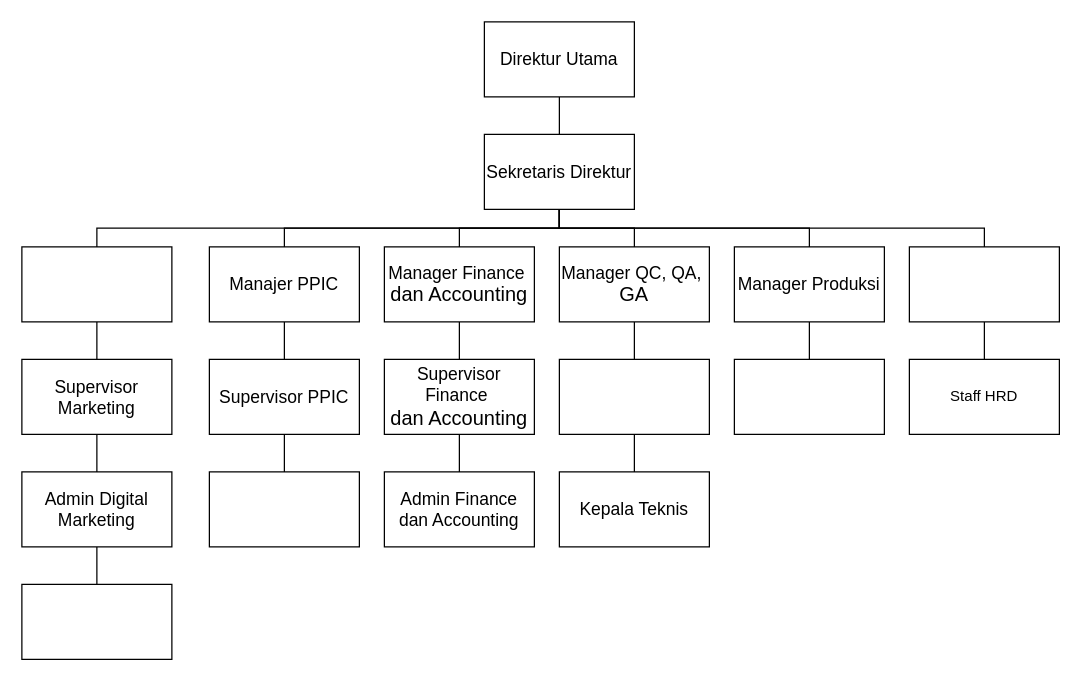
Some shapes in this 1081 by 681 pixel diagram are drawn without their labels. The centre of each missing label's shape, as x and y in pixels:
Admin Penjualan: point (96, 621)
Admin PPIC: point (283, 509)
Kepala Produksi: point (808, 396)
Manager HRD: point (983, 284)
Manager Marketing: point (96, 284)
Supervisor QA dan QC: point (633, 396)
